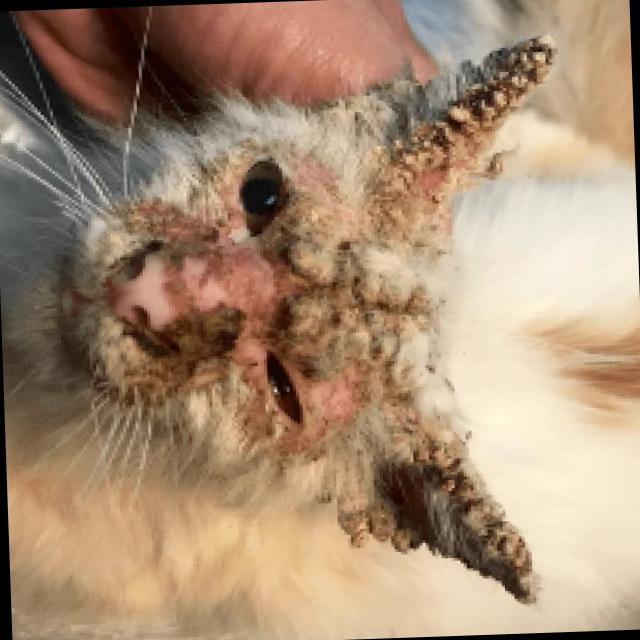Mange: (373, 38, 556, 202), (435, 445, 539, 600), (276, 290, 365, 377), (123, 200, 221, 270), (140, 298, 239, 360), (340, 501, 423, 556), (291, 194, 343, 277), (223, 256, 286, 310), (311, 361, 365, 422), (377, 288, 440, 326), (287, 159, 340, 198)
